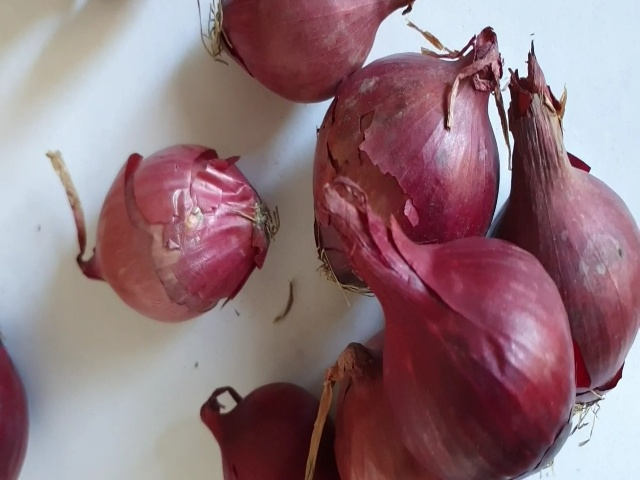red_onion: (308, 193, 587, 470), (34, 140, 288, 325), (353, 34, 515, 229), (505, 75, 637, 285), (179, 2, 416, 79)
